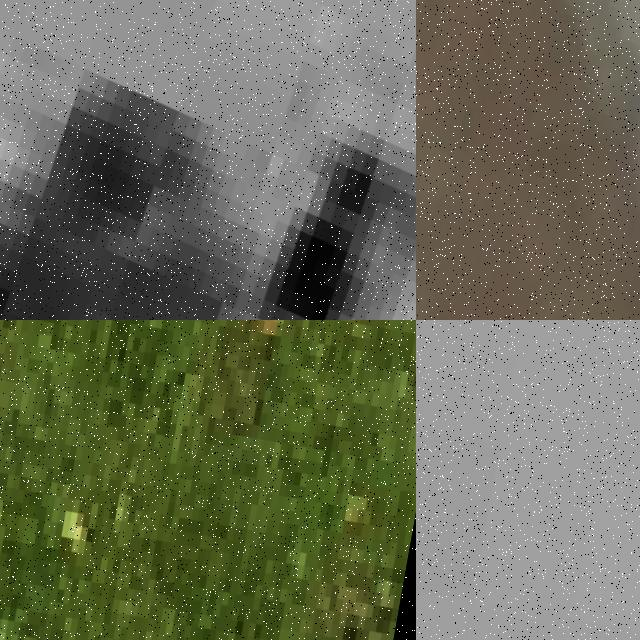drone: (0, 0, 416, 320), (416, 0, 640, 320)
